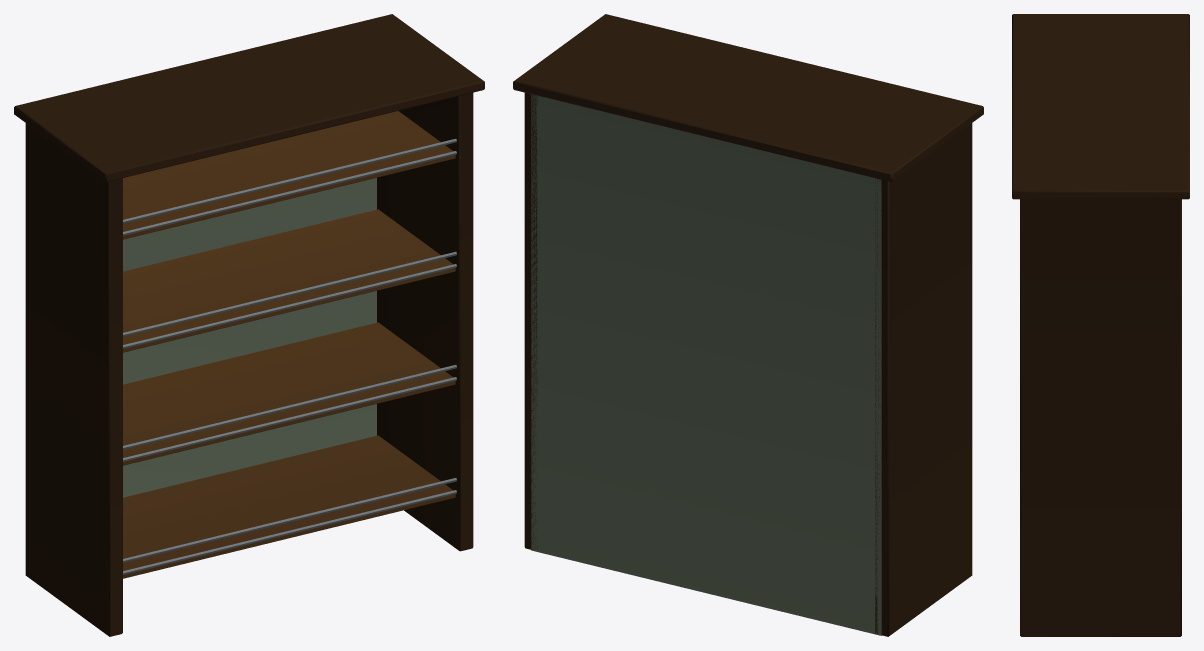
The model's file is mkt-bread-rack.glb.
3 renders of one model, left to right at view 1: azimuth 30°, elevation 25°; view 2: azimuth 150°, elevation 25°; view 3: azimuth 270°, elevation 25°, orthographic. The views are drawn at different scales.
Visible parts, largest first — view 1: rack__wood, rails__steel; view 2: rack__wood; view 3: rack__wood.
Boxes of the visible parts, x1=… form: rack__wood: x1=14, y1=14, x2=484, y2=636; rails__steel: x1=123, y1=138, x2=456, y2=574; rack__wood: x1=513, y1=14, x2=983, y2=636; rack__wood: x1=1012, y1=14, x2=1189, y2=636.
Bounding box in the file's own units: 1.3 × 1.53 × 0.55.
